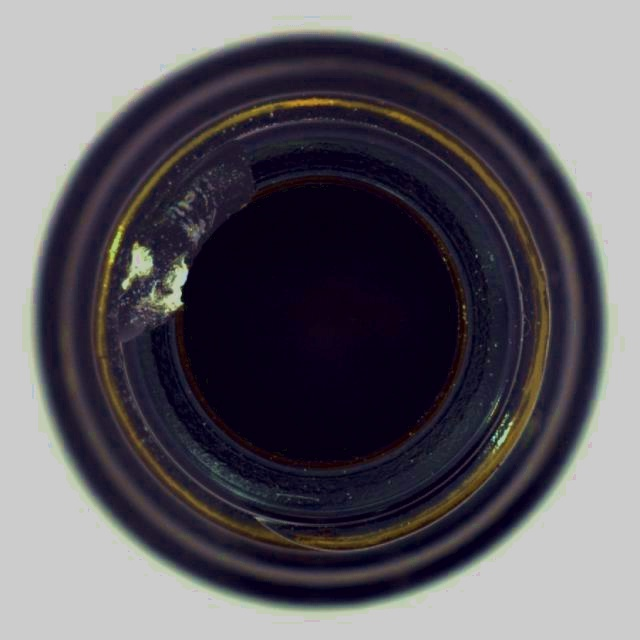bad-broken_small: (26, 28, 609, 615)
